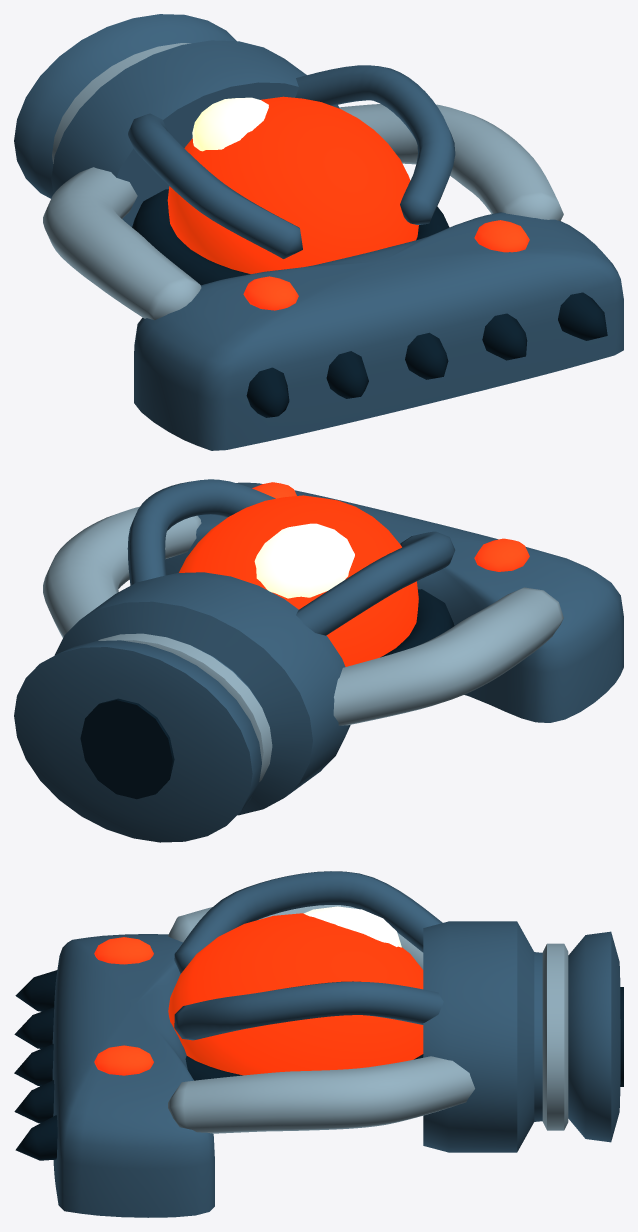
The model's file is sk_zica_super.glb.
3 views of the same model, one above another, from view 1: azimuth 30°, elevation 25°; view 2: azimuth 150°, elevation 25°; view 3: azimuth 270°, elevation 25° (orthographic). The views are drawn at different scales.
Parts seen in each view (by area): view 1: base, neck, egg, bar, bar.001, bar_in.001, bar_in, cradle, egg_hot, claw.004, claw, claw.003 (+5 smaller); view 2: neck, base, bar, egg, bar.001, bore, bar_in, bar_in.001, egg_hot, neck_ring, cradle, lamp; view 3: base, neck, egg, bar.001, bar_in, bar_in.001, neck_ring, egg_hot, lamp.001, bar, lamp, claw.004 (+5 smaller).
Part boxes in pixels (x1=…): base: x1=134, y1=212, x2=623, y2=450; neck: x1=14, y1=14, x2=339, y2=226; egg: x1=167, y1=96, x2=418, y2=273; bar: x1=43, y1=167, x2=201, y2=320; bar.001: x1=339, y1=104, x2=563, y2=221; bar_in.001: x1=295, y1=65, x2=455, y2=224; bar_in: x1=128, y1=113, x2=302, y2=258; cradle: x1=132, y1=189, x2=449, y2=285; egg_hot: x1=192, y1=97, x2=268, y2=151; claw.004: x1=558, y1=292, x2=607, y2=340; claw: x1=246, y1=367, x2=289, y2=417; claw.003: x1=482, y1=313, x2=527, y2=360; neck: x1=14, y1=572, x2=350, y2=842; base: x1=165, y1=482, x2=623, y2=722; bar: x1=333, y1=587, x2=563, y2=725; egg: x1=179, y1=495, x2=418, y2=666; bar.001: x1=43, y1=506, x2=201, y2=637; bore: x1=80, y1=698, x2=174, y2=799; bar_in: x1=296, y1=531, x2=455, y2=635; bar_in.001: x1=127, y1=479, x2=275, y2=585; egg_hot: x1=254, y1=523, x2=354, y2=598; neck_ring: x1=98, y1=633, x2=272, y2=781; cradle: x1=380, y1=589, x2=454, y2=657; lamp: x1=474, y1=538, x2=529, y2=571; base: x1=52, y1=934, x2=214, y2=1217; neck: x1=423, y1=921, x2=620, y2=1152; egg: x1=168, y1=913, x2=423, y2=1075; bar.001: x1=168, y1=1056, x2=474, y2=1133; bar_in: x1=174, y1=871, x2=442, y2=973; bar_in.001: x1=174, y1=981, x2=443, y2=1040; neck_ring: x1=542, y1=943, x2=568, y2=1130; egg_hot: x1=303, y1=906, x2=401, y2=947; lamp.001: x1=94, y1=1045, x2=153, y2=1075; bar: x1=168, y1=905, x2=423, y2=969; lamp: x1=94, y1=937, x2=153, y2=964; claw.004: x1=15, y1=1115, x2=57, y2=1160.
Bounding box in the file's own units: 11.51 × 5.45 × 14.28.
